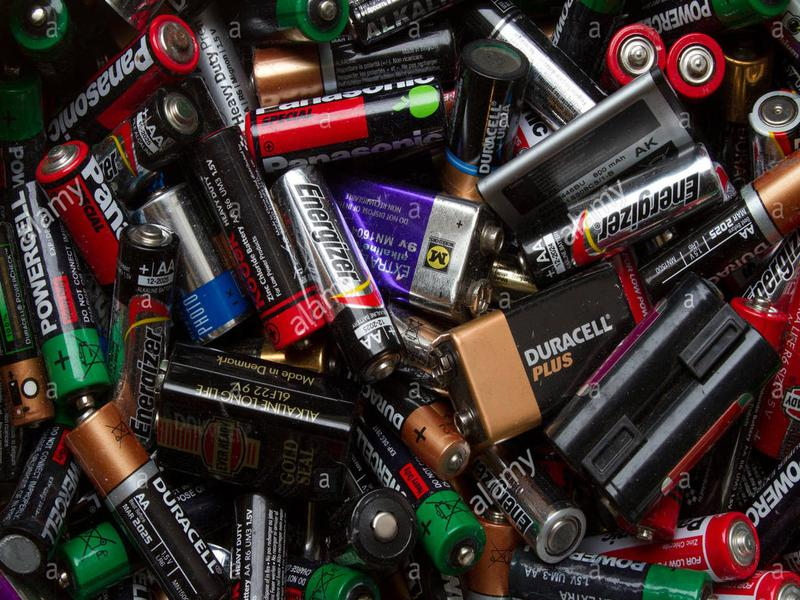battery: (424, 254, 642, 454), (146, 336, 364, 514), (37, 406, 236, 600), (176, 124, 338, 350), (506, 136, 733, 294), (268, 163, 411, 384), (29, 10, 220, 154), (2, 181, 119, 414), (337, 179, 503, 329), (233, 71, 453, 174), (105, 221, 185, 444), (503, 534, 713, 600)
